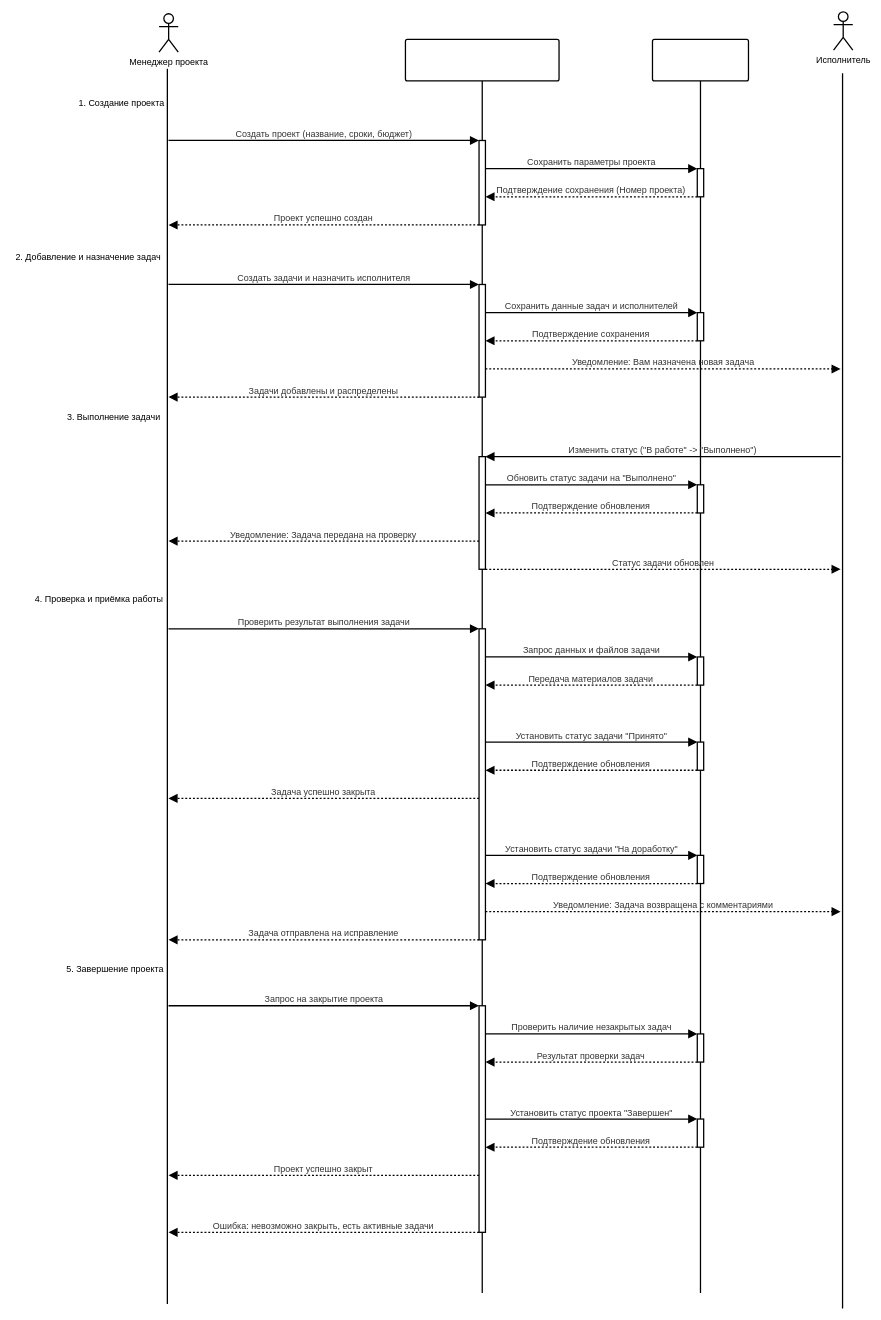
Some shapes in this 881 by 1320 pixel diagram are drawn without their labels. Here are the shapes that lost their labels. From the top down, the centre of each, then its label:
(x=481, y=665): Система управления проектами
(x=700, y=665): База данных
